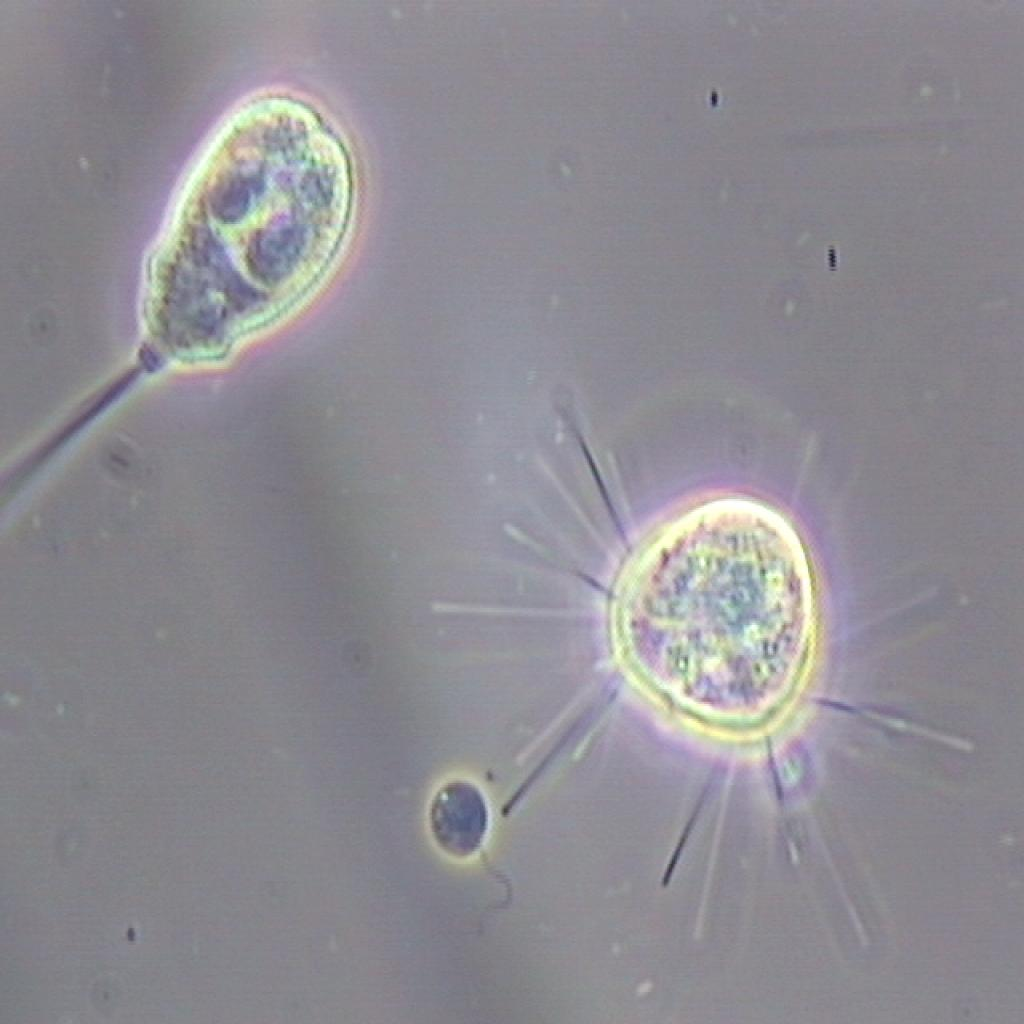Suctorida: (480, 324, 966, 950)
